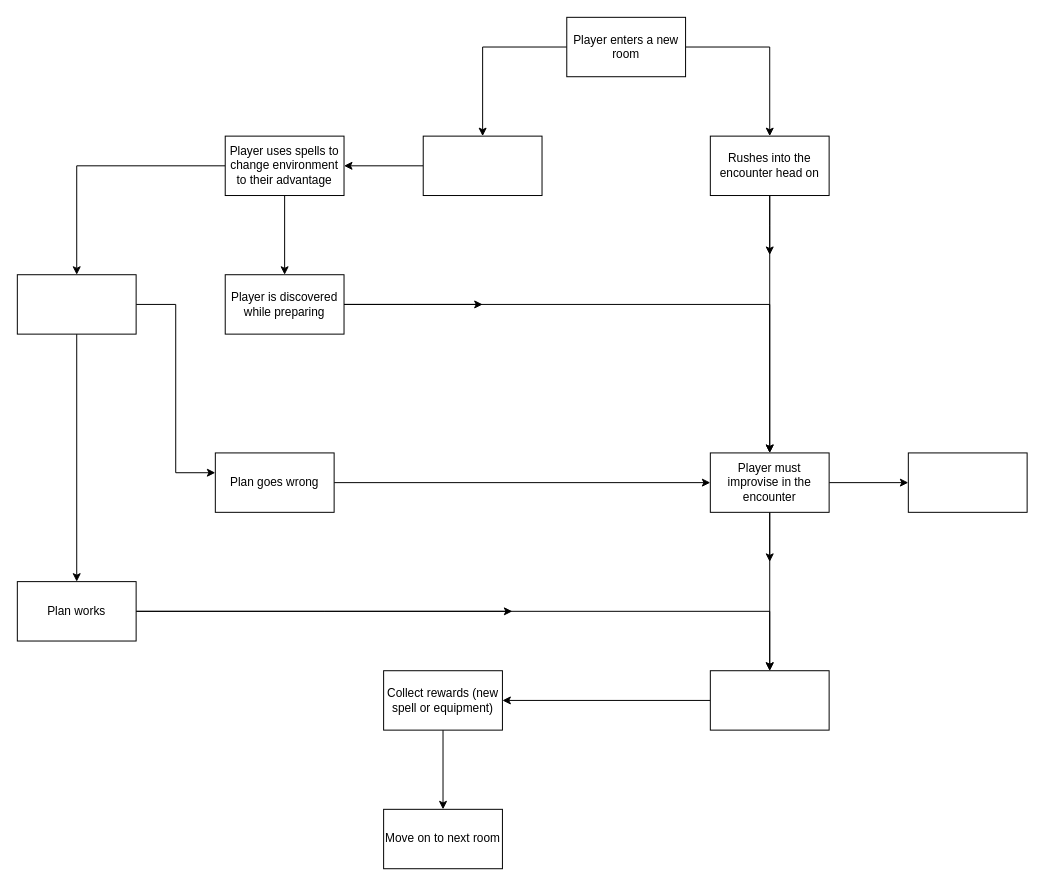
Image size: 1044x886. Some labels were removed from this diagram. Each missing label, with the centre of its shape:
Player does not survive and is returned to last checkpoint: the point at 967,482
Player prepares successfully: the point at 76,304
Player survives the encounter: the point at 769,700
Survey the enemies and objects in the room: the point at 482,165
